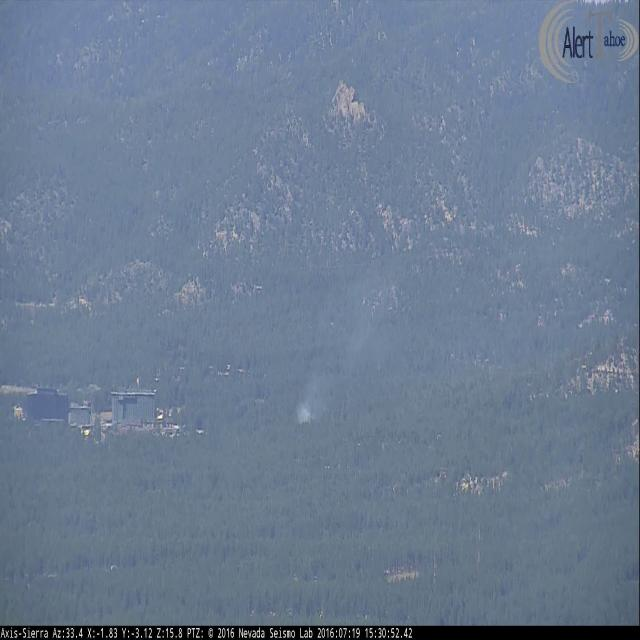smoke: (292, 245, 422, 421)
